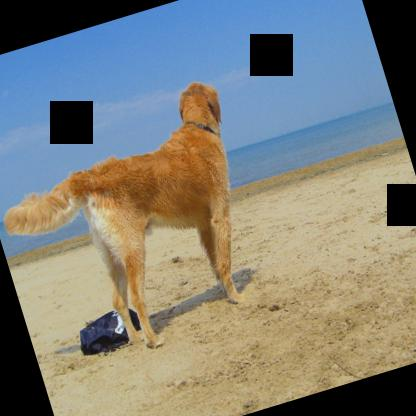backpack: (79, 307, 141, 355)
